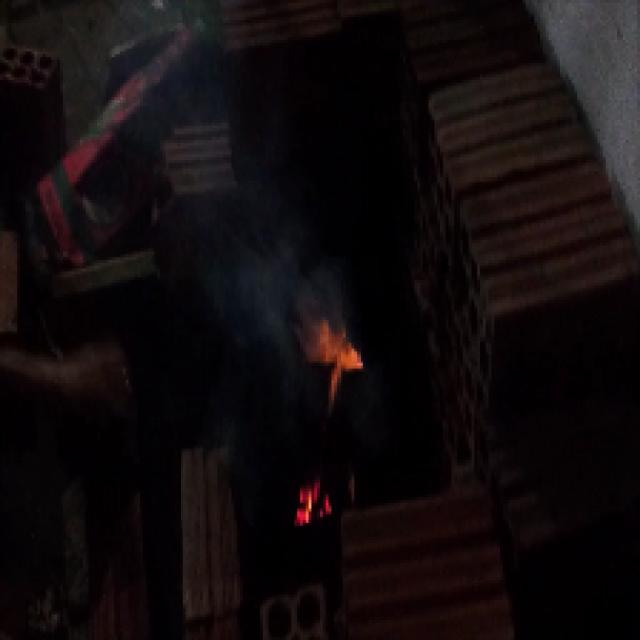smoke: (188, 177, 302, 334)
